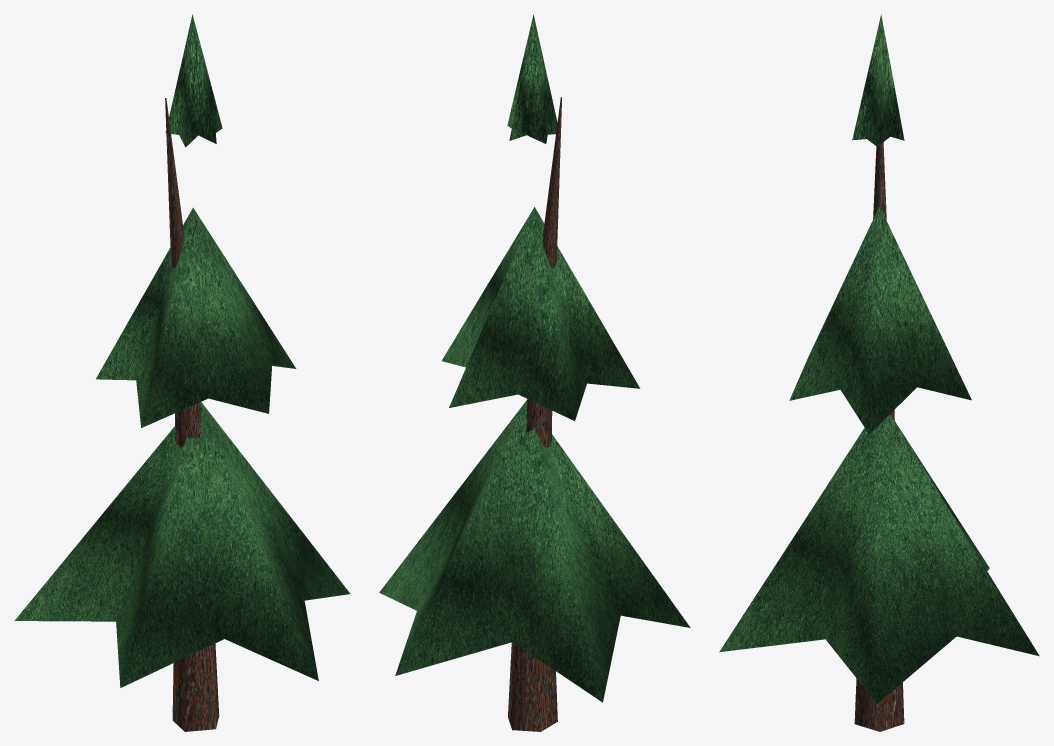
The model's file is pine_2_lod2.glb.
3 renders of one model, left to right at view 1: azimuth 30°, elevation 25°; view 2: azimuth 150°, elevation 25°; view 3: azimuth 270°, elevation 25°, orthographic.
Parts seen in each view (by area): view 1: pine_2_lod2; view 2: pine_2_lod2; view 3: pine_2_lod2.
Part boxes in pixels (x1,y1,x2,y2): pine_2_lod2: (14, 14, 350, 731); pine_2_lod2: (379, 14, 690, 731); pine_2_lod2: (719, 14, 1039, 731).
Size of the model in its own units: 4.59 by 11.11 by 4.58.
Materials: 2 (2 with a texture image).
